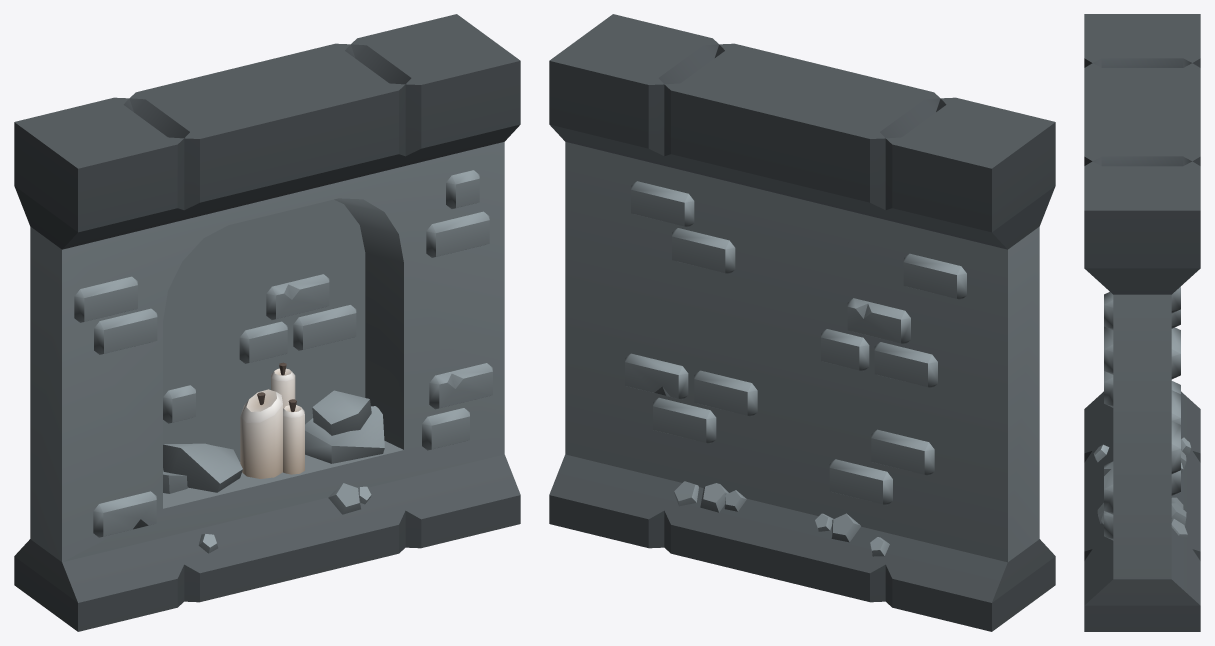
The model's file is wall_inset_candles.glb.
The picture shows the model from 3 angles, left to right: view 1: azimuth 30°, elevation 25°; view 2: azimuth 150°, elevation 25°; view 3: azimuth 270°, elevation 25°; orthographic projection. The views are drawn at different scales.
Visible parts, largest first — view 1: wall_inset_candles; view 2: wall_inset_candles; view 3: wall_inset_candles.
Boxes of the visible parts, x1,y1,x2,y2 form: wall_inset_candles: [14, 14, 520, 631]; wall_inset_candles: [549, 14, 1055, 631]; wall_inset_candles: [1084, 14, 1200, 631].
Bounding box in the file's own units: 4 × 4 × 1.
Materials: 1 (1 with a texture image).
